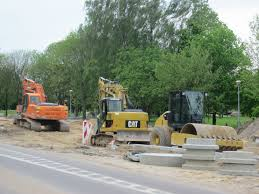excavator: (89, 75, 150, 147), (15, 75, 72, 133)
